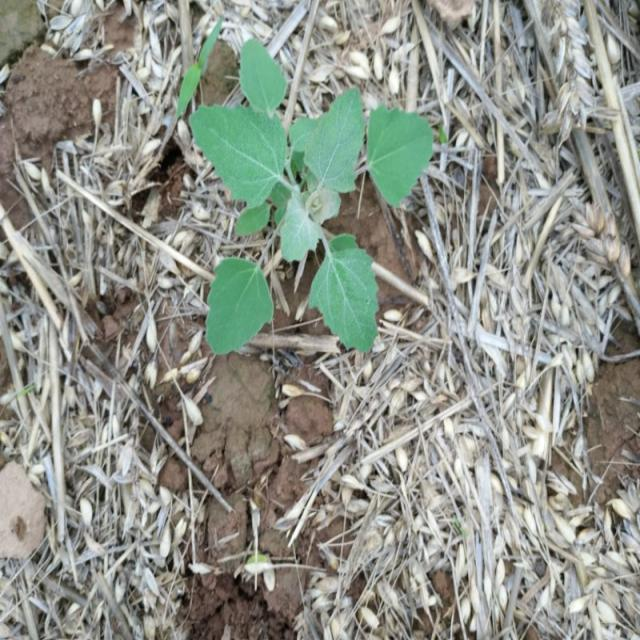goosefoots: (167, 48, 430, 377)
